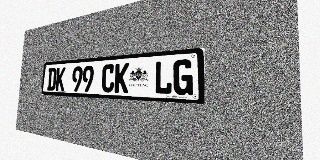9: (82, 65, 94, 92), (71, 66, 83, 92)
C: (101, 64, 115, 93)
D: (47, 68, 57, 91)
G: (173, 59, 193, 95)
K: (114, 63, 129, 93), (55, 67, 66, 91)
L: (154, 60, 173, 95)
